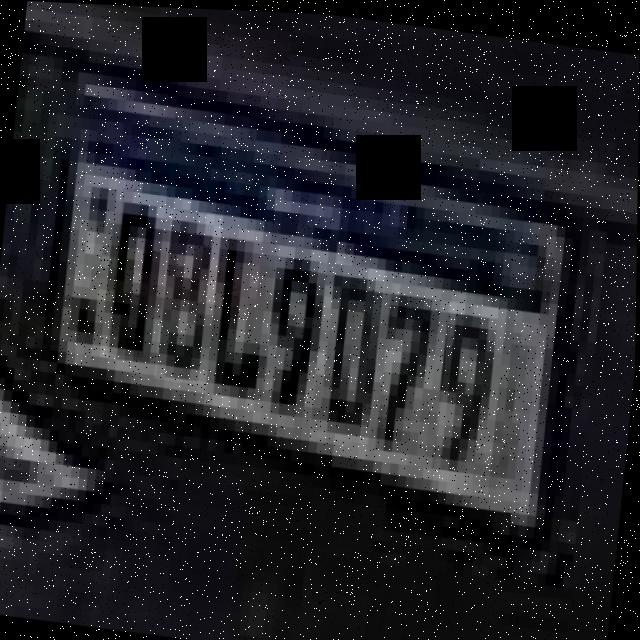7: (378, 280, 442, 464)
9: (433, 288, 508, 492), (261, 233, 328, 426)
B: (154, 207, 223, 383), (207, 233, 277, 397)
D: (318, 257, 387, 441)
O: (107, 185, 160, 357)
